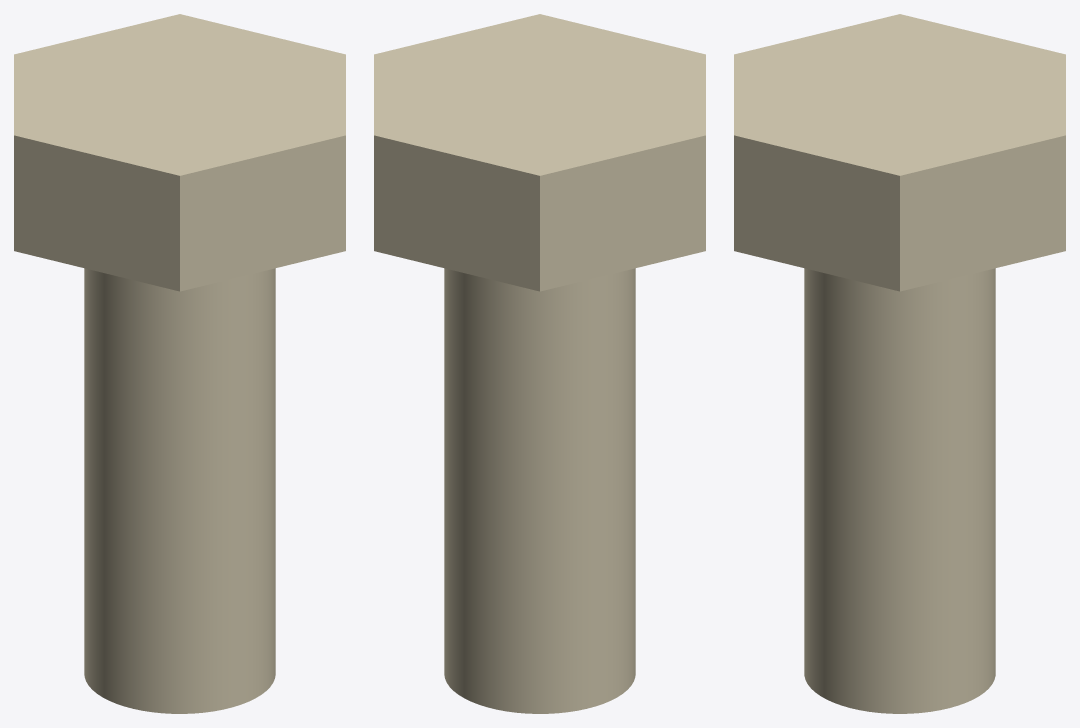
The model's file is evp-screw-1.glb.
3 renders of one model, left to right at view 1: azimuth 30°, elevation 25°; view 2: azimuth 150°, elevation 25°; view 3: azimuth 270°, elevation 25°, orthographic.
Visible parts, largest first — view 1: world; view 2: world; view 3: world.
Boxes of the visible parts, x1,y1,x2,y2 form: world: [14, 14, 345, 713]; world: [374, 14, 705, 713]; world: [734, 14, 1065, 713].
Bounding box in the file's own units: 0.006 × 0.01 × 0.0052.
